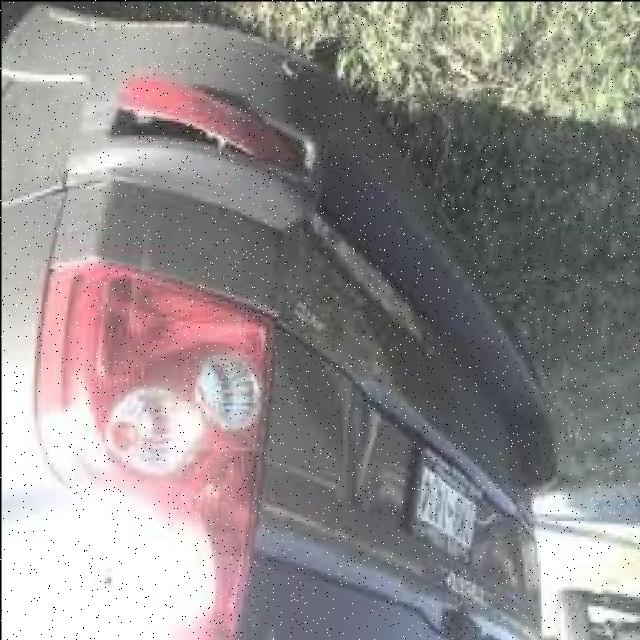damage: (70, 55, 323, 195), (268, 260, 399, 504)
